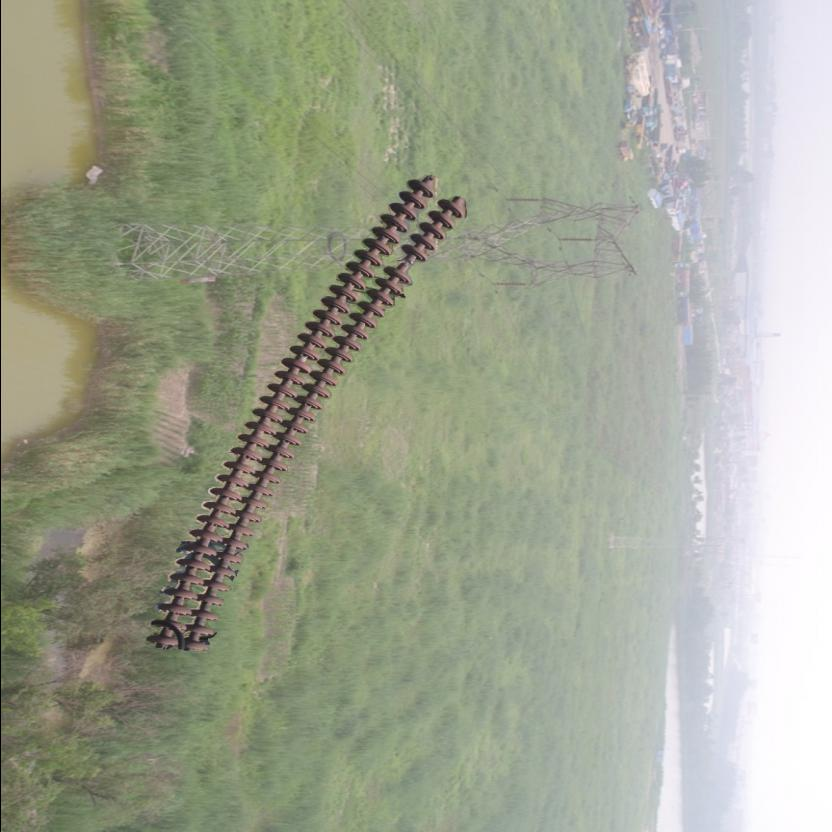defect: (382, 241, 430, 289)
